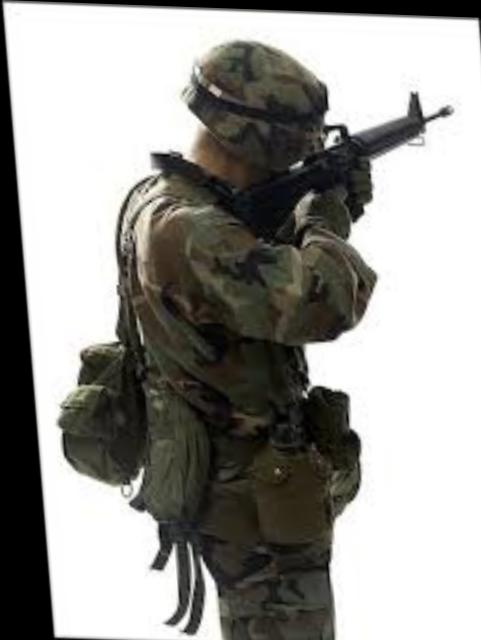other: (92, 55, 383, 639)
